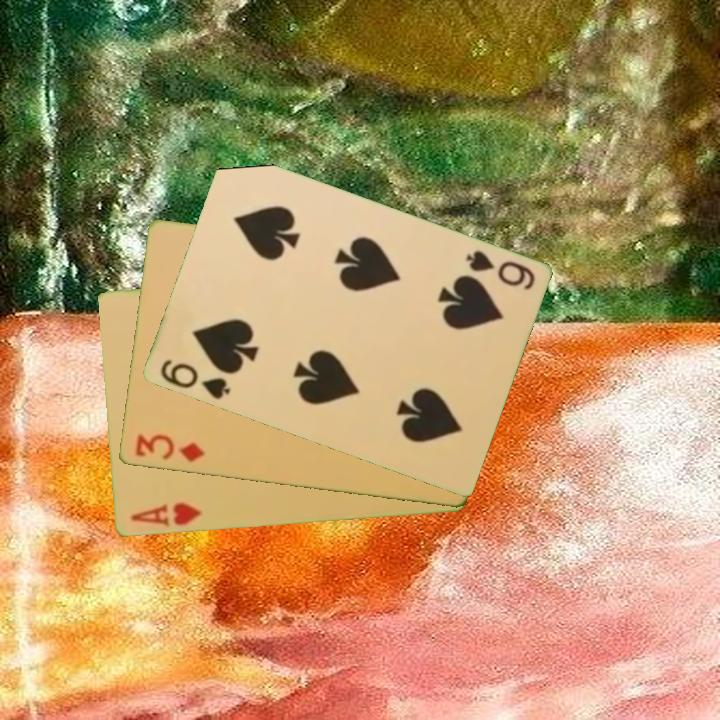3d: (131, 431, 207, 466)
6s: (156, 356, 233, 403), (462, 247, 537, 293)
Ah: (127, 499, 204, 530)
